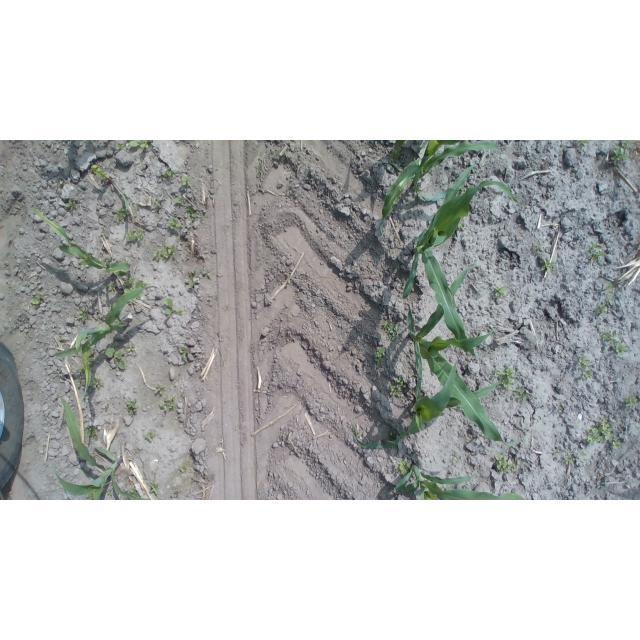Maize: (400, 166, 524, 357), (395, 262, 504, 447), (378, 141, 501, 244), (49, 282, 155, 396), (359, 375, 516, 449), (51, 395, 132, 500), (27, 209, 135, 282), (371, 463, 525, 500)
Weeds: (584, 418, 621, 452), (600, 330, 629, 359), (183, 266, 213, 291), (492, 364, 516, 395), (491, 453, 522, 475), (608, 143, 631, 172), (598, 282, 615, 319), (105, 346, 127, 372), (575, 355, 593, 386), (383, 377, 406, 400), (382, 317, 401, 344), (395, 458, 417, 481), (162, 297, 186, 317), (153, 244, 179, 262), (93, 166, 116, 186), (587, 242, 606, 264), (512, 387, 533, 406), (115, 207, 134, 226), (115, 140, 155, 149), (125, 230, 148, 245), (622, 395, 639, 414), (160, 395, 179, 412), (121, 276, 144, 289), (371, 346, 384, 368), (541, 258, 556, 277), (125, 398, 139, 418), (492, 284, 508, 301), (256, 156, 266, 181), (179, 344, 192, 363), (167, 216, 182, 232), (77, 307, 91, 324), (186, 204, 199, 220), (88, 378, 104, 391), (29, 294, 46, 306), (178, 175, 192, 189), (145, 429, 158, 444), (153, 382, 166, 397), (128, 486, 141, 499), (171, 196, 185, 208), (163, 166, 175, 180), (564, 453, 576, 467), (87, 426, 99, 440), (149, 483, 160, 498), (104, 282, 118, 293), (64, 201, 79, 211), (531, 242, 542, 253), (153, 199, 163, 211), (577, 140, 591, 148), (126, 342, 136, 353), (170, 490, 180, 499), (551, 448, 562, 456), (179, 466, 189, 474), (106, 488, 115, 496), (579, 450, 587, 458), (558, 404, 565, 410)
